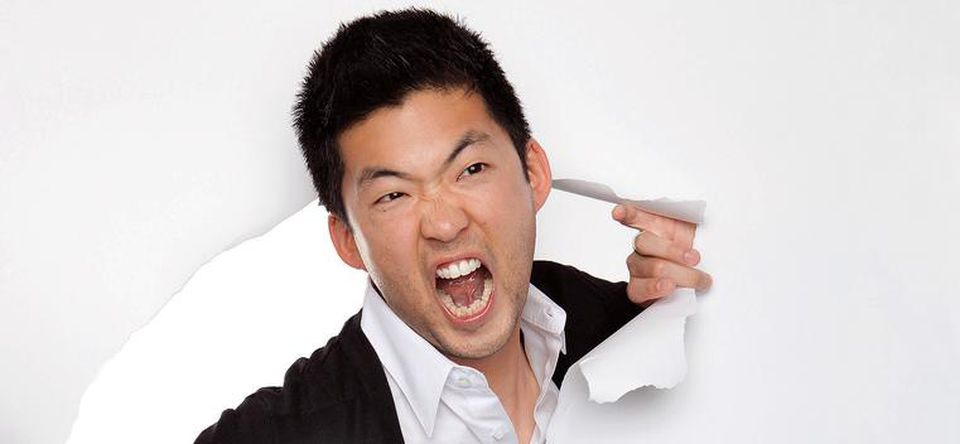anger: (338, 87, 526, 344)
